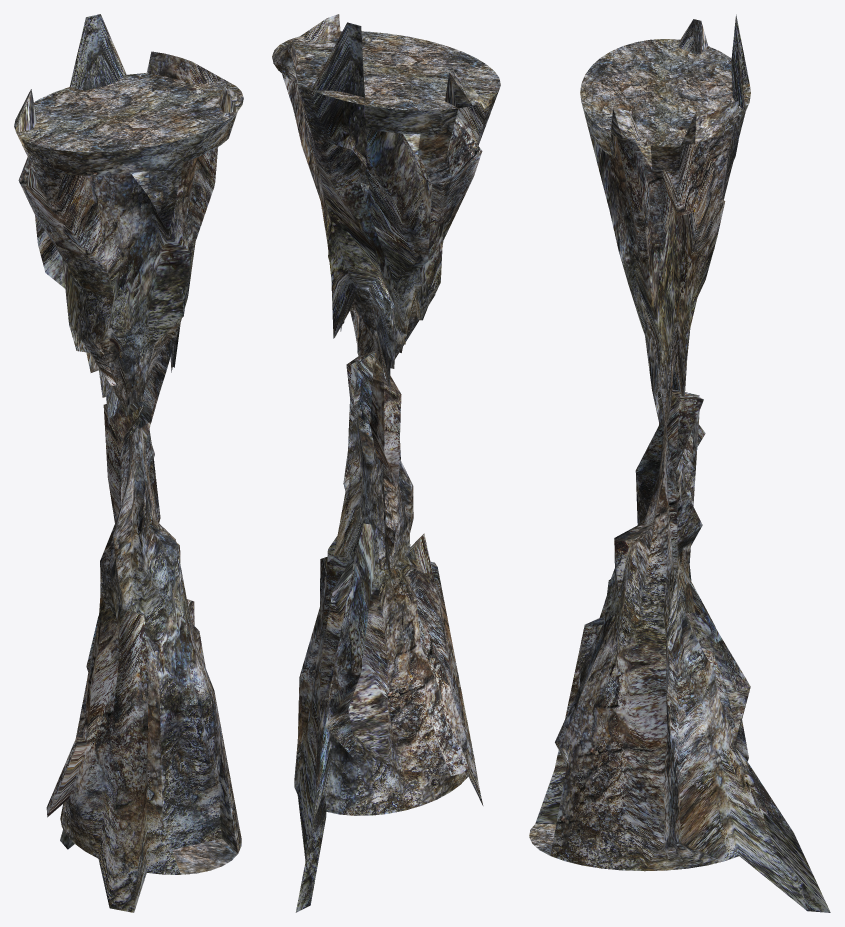
The model's file is stalaktit_nit_2.fbx.
The picture shows the model from 3 angles, left to right: view 1: azimuth 30°, elevation 25°; view 2: azimuth 150°, elevation 25°; view 3: azimuth 270°, elevation 25°; orthographic projection. The views are drawn at different scales.
Visible parts, largest first — view 1: Kegel, Kegel_1; view 2: Kegel_1, Kegel; view 3: Kegel_1, Kegel.
Boxes of the visible parts, x1,y1,x2,y2 form: Kegel: (14, 14, 243, 443); Kegel_1: (46, 392, 241, 912); Kegel_1: (294, 351, 483, 912); Kegel: (272, 14, 500, 393); Kegel_1: (529, 389, 830, 912); Kegel: (580, 14, 750, 442).
Bounding box in the file's own units: 191 × 734 × 226.
1 material, 1 textured.
